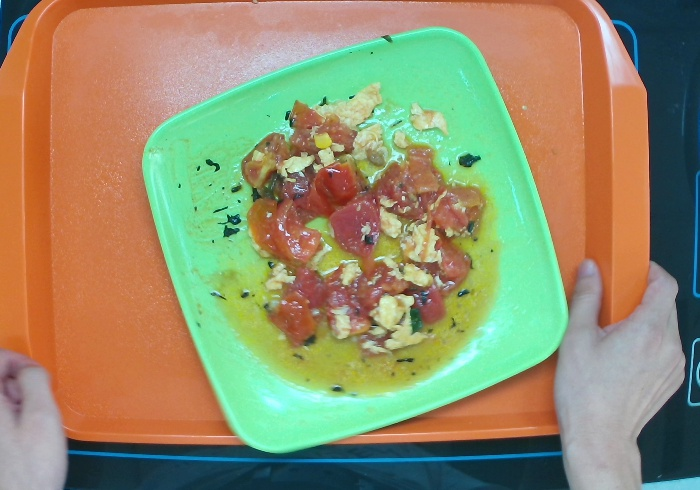ZNLD-Lv_Fang_Pan: (137, 25, 571, 459)
